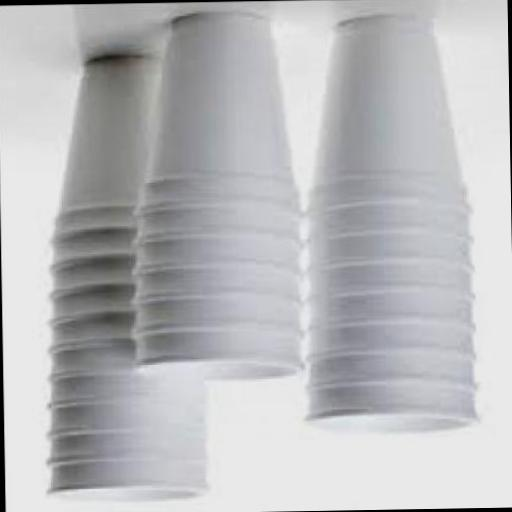paper: (294, 14, 477, 431), (37, 58, 205, 500), (123, 16, 289, 382), (303, 13, 464, 200), (134, 15, 292, 190), (49, 58, 177, 223)
